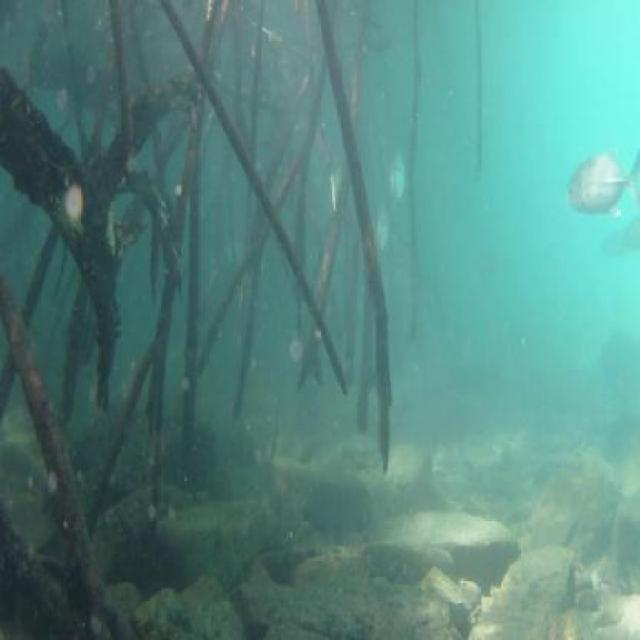Caranx_sexfasciatus_juvenile: (563, 140, 640, 228), (378, 137, 413, 200), (319, 144, 346, 213), (371, 191, 398, 258)
